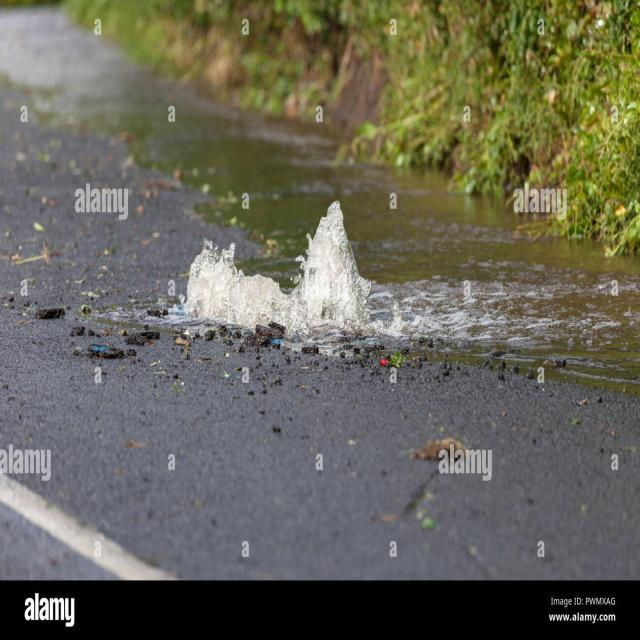water_leak: (181, 179, 524, 340)
